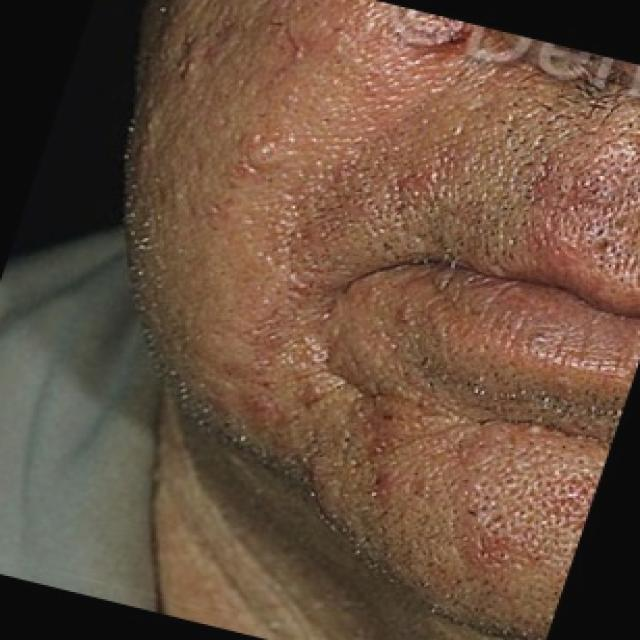Rosacea: (217, 14, 408, 422), (358, 431, 578, 558), (529, 139, 640, 259)
